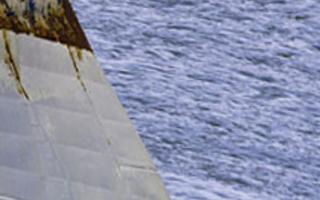rust: (1, 3, 96, 55)
